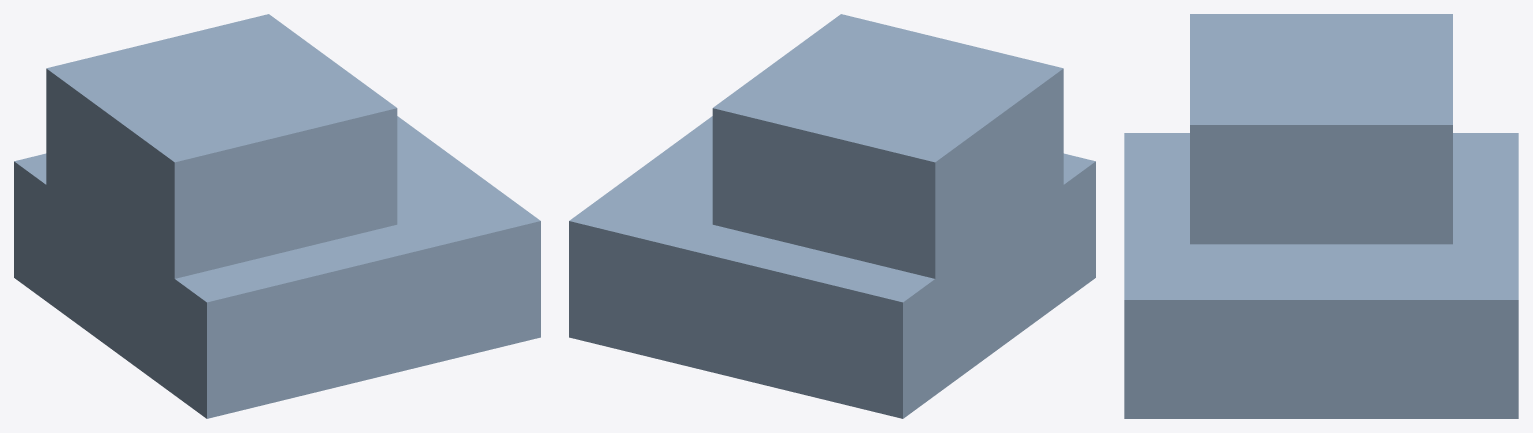
File: stone-03.glb
The picture shows the model from 3 angles, left to right: view 1: azimuth 30°, elevation 25°; view 2: azimuth 150°, elevation 25°; view 3: azimuth 270°, elevation 25°; orthographic projection. The views are drawn at different scales.
Parts seen in each view (by area): view 1: generated(Clone); view 2: generated(Clone); view 3: generated(Clone).
Boxes of the visible parts, box(x1,y1,x2,y2) form: generated(Clone): box(14, 14, 540, 418); generated(Clone): box(569, 14, 1095, 418); generated(Clone): box(1124, 14, 1518, 418).
Size of the model in its own units: 3 by 2 by 3.
Materials: 1 (1 with a texture image).
